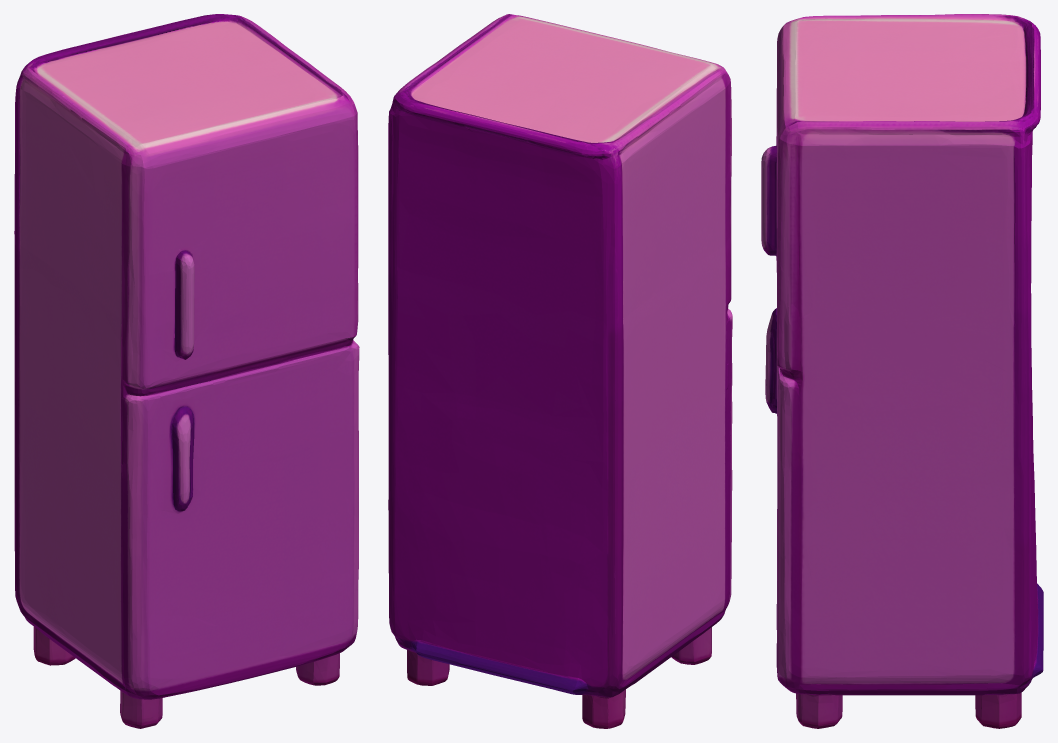
The picture shows the model from 3 angles, left to right: view 1: azimuth 30°, elevation 25°; view 2: azimuth 150°, elevation 25°; view 3: azimuth 270°, elevation 25°; orthographic projection. The views are drawn at different scales.
Visible parts, largest first — view 1: world; view 2: world; view 3: world.
Part boxes in pixels (x1,y1,x2,y2): world: (14,14,359,728); world: (388,14,732,728); world: (761,14,1043,728).
Bounding box in the file's own units: 41.33 × 100 × 42.11.
1 material, 1 textured.
